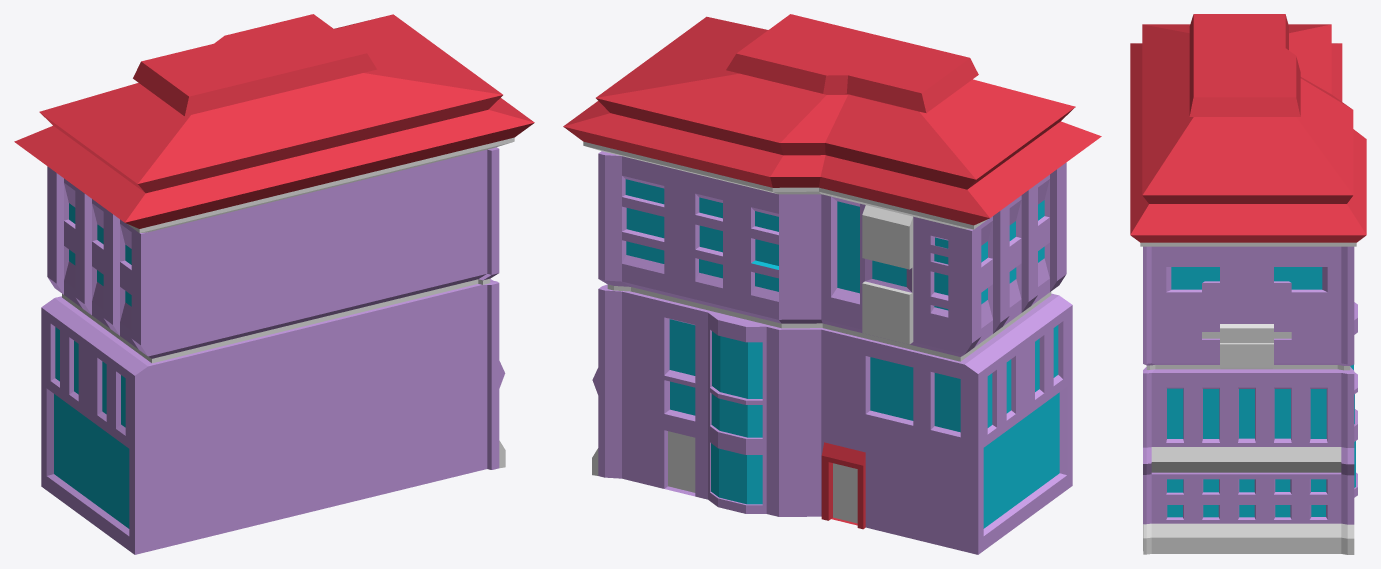
The model's file is FBX_LC_sMall.fbx.
The picture shows the model from 3 angles, left to right: view 1: azimuth 30°, elevation 25°; view 2: azimuth 150°, elevation 25°; view 3: azimuth 270°, elevation 25°; orthographic projection. The views are drawn at different scales.
Parts seen in each view (by area): view 1: FBX_LC_sMall; view 2: FBX_LC_sMall; view 3: FBX_LC_sMall.
Boxes of the visible parts, <box> form: FBX_LC_sMall: <box>14,14,534,554</box>; FBX_LC_sMall: <box>563,14,1101,554</box>; FBX_LC_sMall: <box>1130,14,1366,554</box>.
Bounding box in the file's own units: 2559 × 2519 × 1334.
